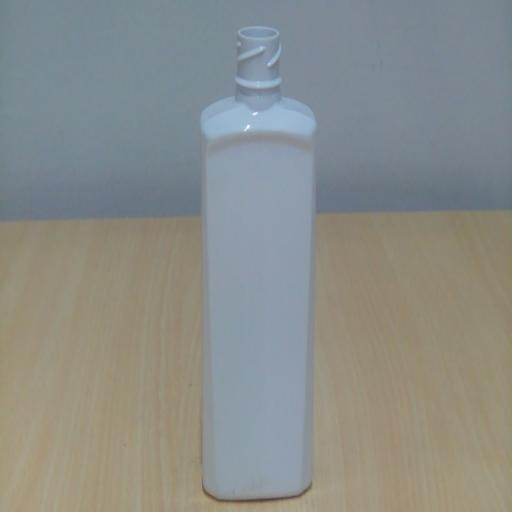Good: (190, 18, 327, 506)
